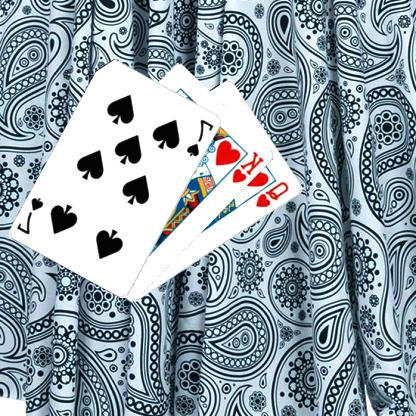7S: (16, 194, 47, 236), (186, 117, 217, 158)
KH: (231, 148, 268, 184)
QH: (255, 179, 292, 209)
